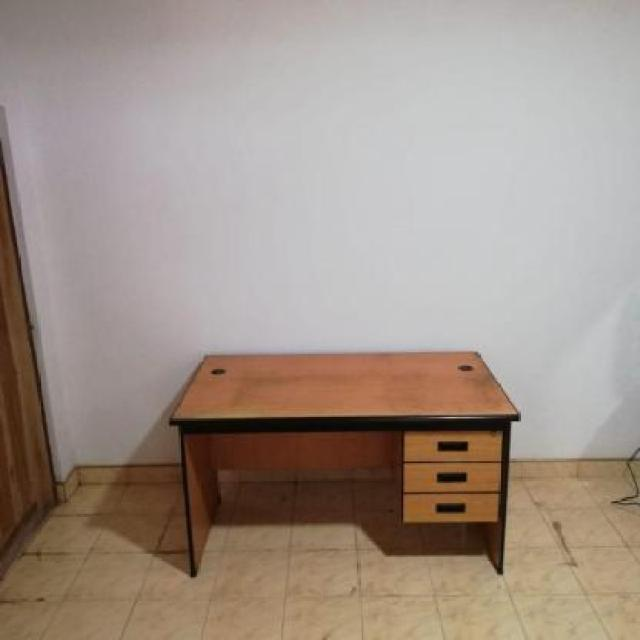tables: (168, 349, 520, 577)
